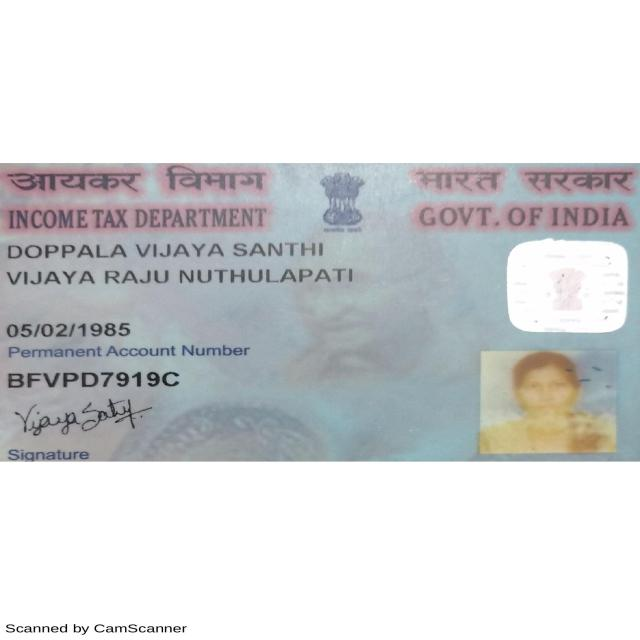pan_card: (1, 163, 639, 462)
